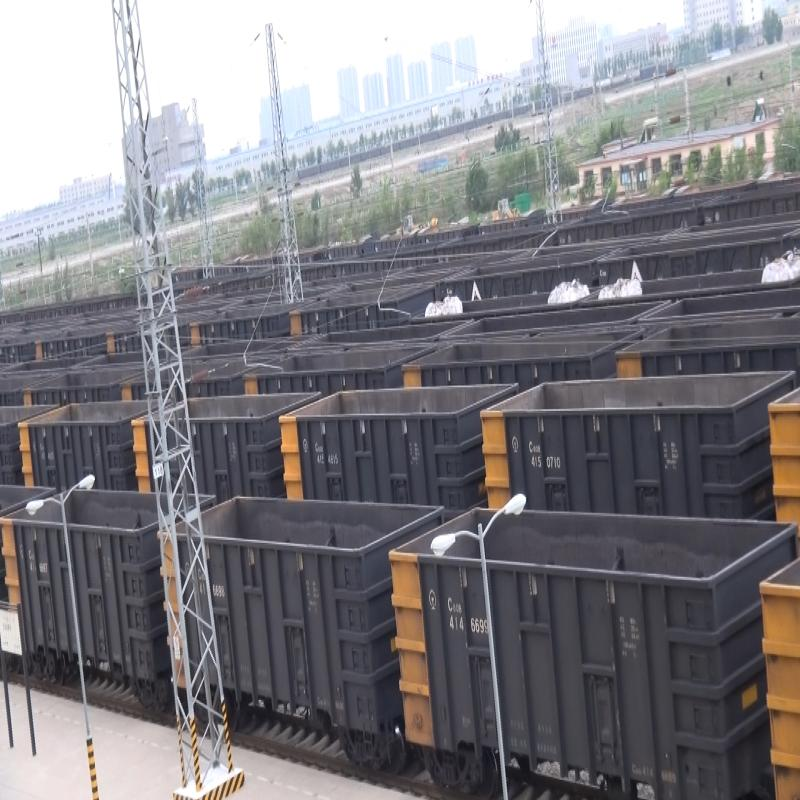train: (395, 497, 754, 795), (197, 489, 393, 747)
